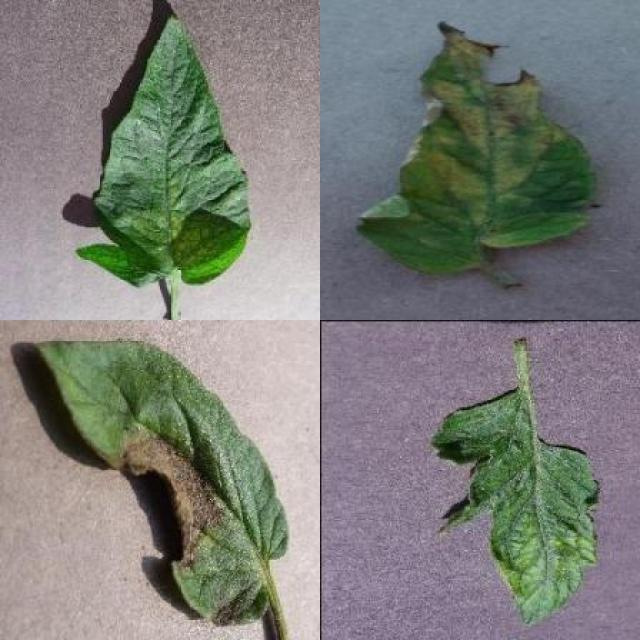Late Blight: (30, 336, 290, 626)
Leaf Mold: (353, 20, 600, 280)
Mosaic Virus: (428, 386, 598, 628)
Spider Mites: (75, 12, 254, 287)
